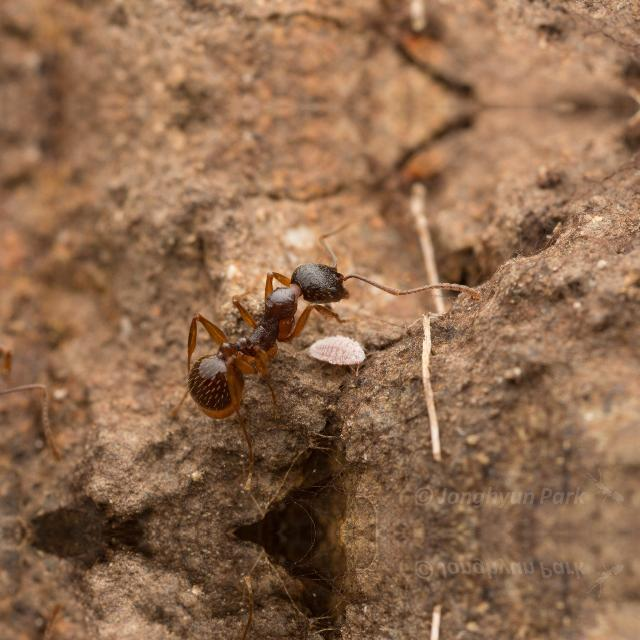Apheanogaster: (148, 229, 384, 425)
